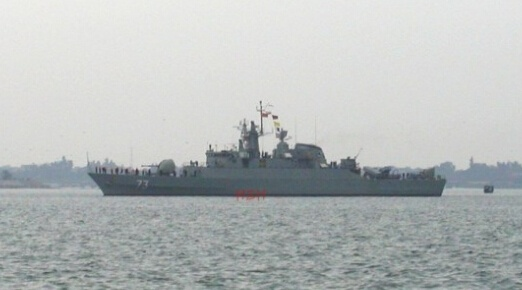warship: (88, 97, 453, 199)
